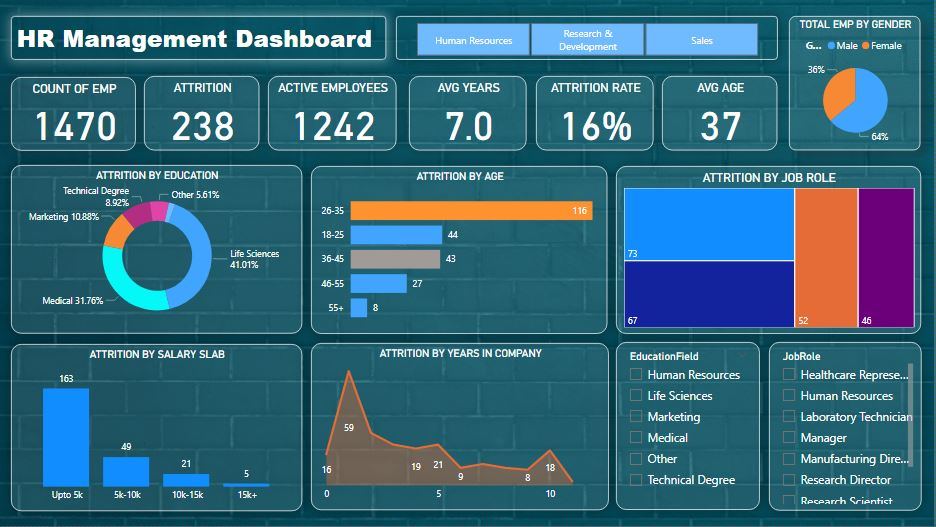

What the dashboard file says about the page in this screenshot:
{"tool":"powerbi","page":{"name":"Page 1","canvas":[1280,720],"ordinal":0},"visuals":[{"type":"card","title":"COUNT OF EMP","fields":{"Values":["Count(HR_Analytics.EmpID)"]},"box":[14.4,105.1,171.4,100.8],"z":0},{"type":"card","title":"AVG AGE","fields":{"Values":["Avg(HR_Analytics.Age)"]},"box":[907.2,103.7,158.4,102.2],"z":1000},{"type":"card","title":"ACTIVE EMPLOYEES","fields":{"Values":["HR_Analytics.Active Employees"]},"box":[367.2,103.7,175.7,102.2],"z":2000},{"type":"donutChart","title":"ATTRITION BY EDUCATION","fields":{"Category":["HR_Analytics.EducationField"],"Y":["CountNonNull(HR_Analytics.Attrition)"]},"box":[14.7,226.5,398.5,230.9],"z":3000},{"type":"card","title":"AVG YEARS","fields":{"Values":["Avg(HR_Analytics.YearsAtCompany)"]},"box":[560.2,103.7,161.3,102.2],"z":4000},{"type":"barChart","title":"ATTRITION BY AGE","fields":{"Category":["HR_Analytics.AgeGroup"],"Y":["Sum(HR_Analytics.AttritionCount)"]},"box":[426.2,227.5,406.1,230.4],"z":5000},{"type":"treemap","title":"ATTRITION BY JOB ROLE","fields":{"Group":["HR_Analytics.JobRole","HR_Analytics.JobSatisfaction"],"Values":["Sum(HR_Analytics.AttritionCount)"]},"box":[843.8,227.5,417.6,230.4],"z":6000},{"type":"clusteredColumnChart","title":"ATTRITION BY SALARY SLAB","fields":{"Category":["HR_Analytics.SalarySlab"],"Y":["Sum(HR_Analytics.AttritionCount)"]},"box":[14.7,470.6,398.5,229.4],"z":7000},{"type":"stackedAreaChart","title":"ATTRITION BY YEARS IN COMPANY","fields":{"Category":["HR_Analytics.YearsAtCompany"],"Y":["Sum(HR_Analytics.AttritionCount)"]},"box":[425.5,470.2,407.6,228.8],"z":8000},{"type":"pieChart","title":"TOTAL EMP BY GENDER","fields":{"Category":["HR_Analytics.Gender"],"Y":["Sum(HR_Analytics.AttritionCount)"]},"box":[1081.4,21.6,180,184.3],"z":9000},{"type":"slicer","fields":{"Values":["HR_Analytics.Department"]},"box":[542.5,21.9,523.3,60.3],"z":10000},{"type":"textbox","box":[15.1,21.9,513.7,60.3],"z":11000},{"type":"card","title":"ATTRITION","fields":{"Values":["Sum(HR_Analytics.AttritionCount)"]},"box":[197.3,103.7,158.4,102.2],"z":12000},{"type":"card","title":"ATTRITION RATE","fields":{"Values":["HR_Analytics.AttritionRate"]},"box":[734.4,103.7,161.3,102.2],"z":13000},{"type":"slicer","fields":{"Values":["HR_Analytics.EducationField"]},"box":[843.2,468.9,197.3,229.7],"z":14000},{"type":"slicer","fields":{"Values":["HR_Analytics.JobRole"]},"box":[1053,468.4,209.2,230.6],"z":15000}]}

Visuals, with their boxes in screenshot pixels (x1, y1, x2, y2), scaled from the page's 1280x720 canvas onto the 936x527 screenshot:
"COUNT OF EMP" card: Rect(11, 77, 136, 151)
"AVG AGE" card: Rect(663, 76, 779, 151)
"ACTIVE EMPLOYEES" card: Rect(269, 76, 397, 151)
"ATTRITION BY EDUCATION" donutChart: Rect(11, 166, 302, 335)
"AVG YEARS" card: Rect(410, 76, 528, 151)
"ATTRITION BY AGE" barChart: Rect(312, 167, 609, 335)
"ATTRITION BY JOB ROLE" treemap: Rect(617, 167, 922, 335)
"ATTRITION BY SALARY SLAB" clusteredColumnChart: Rect(11, 344, 302, 512)
"ATTRITION BY YEARS IN COMPANY" stackedAreaChart: Rect(311, 344, 609, 512)
"TOTAL EMP BY GENDER" pieChart: Rect(791, 16, 922, 151)
slicer - HR_Analytics.Department: Rect(397, 16, 779, 60)
textbox: Rect(11, 16, 387, 60)
"ATTRITION" card: Rect(144, 76, 260, 151)
"ATTRITION RATE" card: Rect(537, 76, 655, 151)
slicer - HR_Analytics.EducationField: Rect(617, 343, 761, 511)
slicer - HR_Analytics.JobRole: Rect(770, 343, 923, 512)
